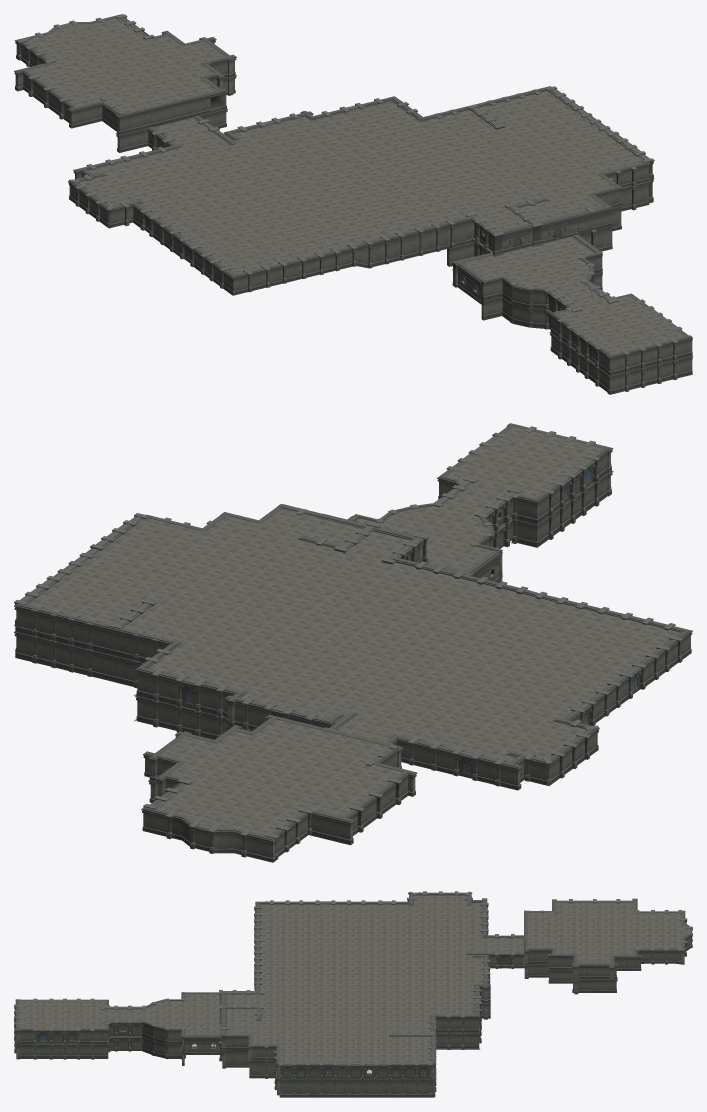
File: sc_moshenta_ding_001.FBX
3 renders of one model, top to bottom at view 1: azimuth 30°, elevation 25°; view 2: azimuth 150°, elevation 25°; view 3: azimuth 270°, elevation 25°, orthographic. The views are drawn at different scales.
Parts seen in each view (by area): view 1: 对象093, 对象094, 对象092, sc_moshenta_wall_a143, sc_moshenta_wall_a126, sc_moshenta_wall_a095, sc_moshenta_wall_a137, sc_moshenta_wall_a096, sc_moshenta_wall_a170, sc_moshenta_wall_a103, sc_moshenta_wall_a128, sc_moshenta_wall_a146 (+14 smaller); view 2: 对象093, 对象094, 对象092, 对象145, sc_moshenta_wall_a130, sc_moshenta_wall_a096, sc_moshenta_wall_a149, sc_moshenta_wall_a137, sc_moshenta_wall_a142, sc_moshenta_wall_a143, sc_moshenta_wall_a146, sc_moshenta_wall_a139 (+10 smaller); view 3: 对象093, 对象094, sc_moshenta_wall_a128, 对象092, sc_moshenta_wall_a100, sc_moshenta_wall_a126, sc_moshenta_wall_a132, sc_moshenta_wall_a105, sc_moshenta_wall_a168, sc_moshenta_wall_a102, sc_moshenta_wall_a130, sc_moshenta_wall_a165 (+10 smaller).
Boxes of the visible parts, x1,y1,x2,y2 form: 对象093: (79,91,649,274); 对象094: (26,18,225,112); 对象092: (462,237,684,354); sc_moshenta_wall_a143: (232,219,455,295); sc_moshenta_wall_a126: (576,162,651,251); sc_moshenta_wall_a095: (606,335,692,394); sc_moshenta_wall_a137: (132,203,234,295); sc_moshenta_wall_a096: (549,313,611,391); sc_moshenta_wall_a170: (115,88,227,135); sc_moshenta_wall_a103: (502,277,549,329); sc_moshenta_wall_a128: (545,86,654,202); sc_moshenta_wall_a146: (22,70,76,123); 对象093: (27,509,680,762); 对象094: (155,719,403,835); 对象092: (356,426,602,571); 对象145: (14,603,181,688); sc_moshenta_wall_a130: (135,668,343,739); sc_moshenta_wall_a096: (535,448,608,547); sc_moshenta_wall_a149: (141,807,277,862); sc_moshenta_wall_a137: (563,630,692,725); sc_moshenta_wall_a142: (394,734,522,790); sc_moshenta_wall_a143: (415,562,691,632); sc_moshenta_wall_a146: (342,772,408,835); sc_moshenta_wall_a139: (543,725,599,785); 对象093: (227,895,524,1064); 对象094: (528,902,686,963); sc_moshenta_wall_a128: (279,1061,434,1097); 对象092: (19,994,220,1034); sc_moshenta_wall_a100: (19,1027,108,1059); sc_moshenta_wall_a126: (219,1023,282,1095); sc_moshenta_wall_a132: (434,1013,480,1049); sc_moshenta_wall_a105: (142,1021,181,1059); sc_moshenta_wall_a168: (572,963,617,992); sc_moshenta_wall_a102: (100,1019,146,1051); sc_moshenta_wall_a130: (473,955,490,1045); sc_moshenta_wall_a165: (548,954,576,983).
Size of the model in its own units: 165 by 26.03 by 272.
